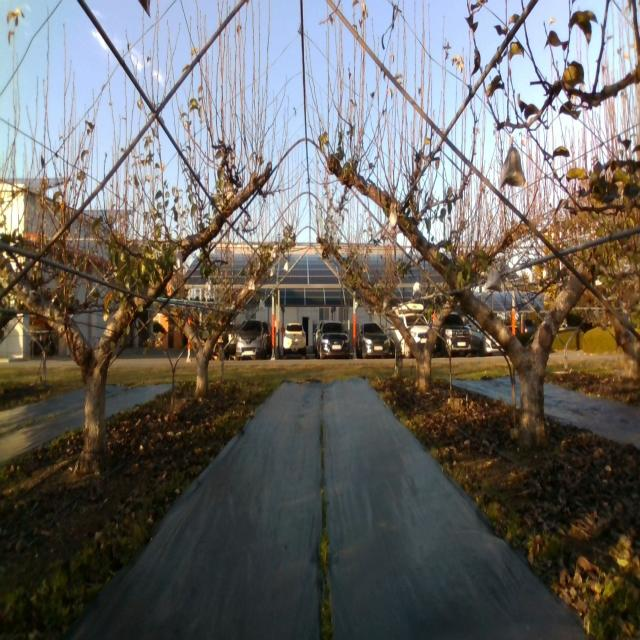pearbags: (500, 145, 526, 187), (486, 268, 502, 291)
